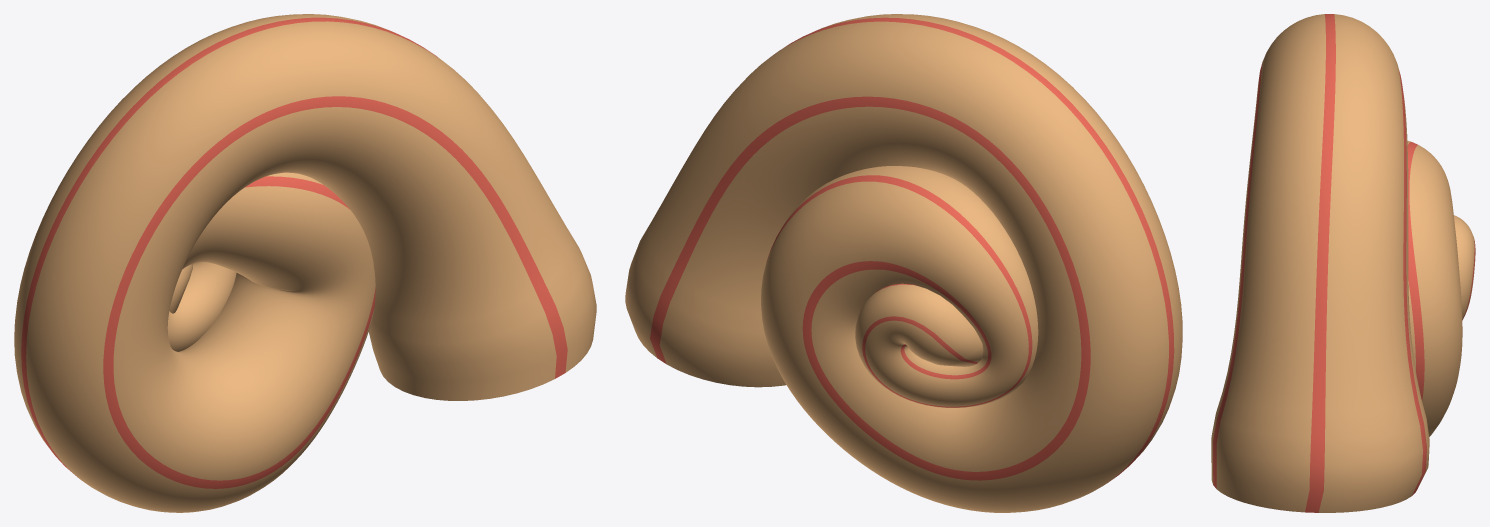
The model's file is snailshell.fbx.
The picture shows the model from 3 angles, left to right: view 1: azimuth 30°, elevation 25°; view 2: azimuth 150°, elevation 25°; view 3: azimuth 270°, elevation 25°; orthographic projection. The views are drawn at different scales.
Visible parts, largest first — view 1: NurbsPath; view 2: NurbsPath; view 3: NurbsPath.
Boxes of the visible parts, bbox=[...] form: NurbsPath: bbox=[14, 14, 596, 512]; NurbsPath: bbox=[625, 14, 1182, 512]; NurbsPath: bbox=[1211, 14, 1475, 512].
Size of the model in its own units: 906 by 736 by 397.
